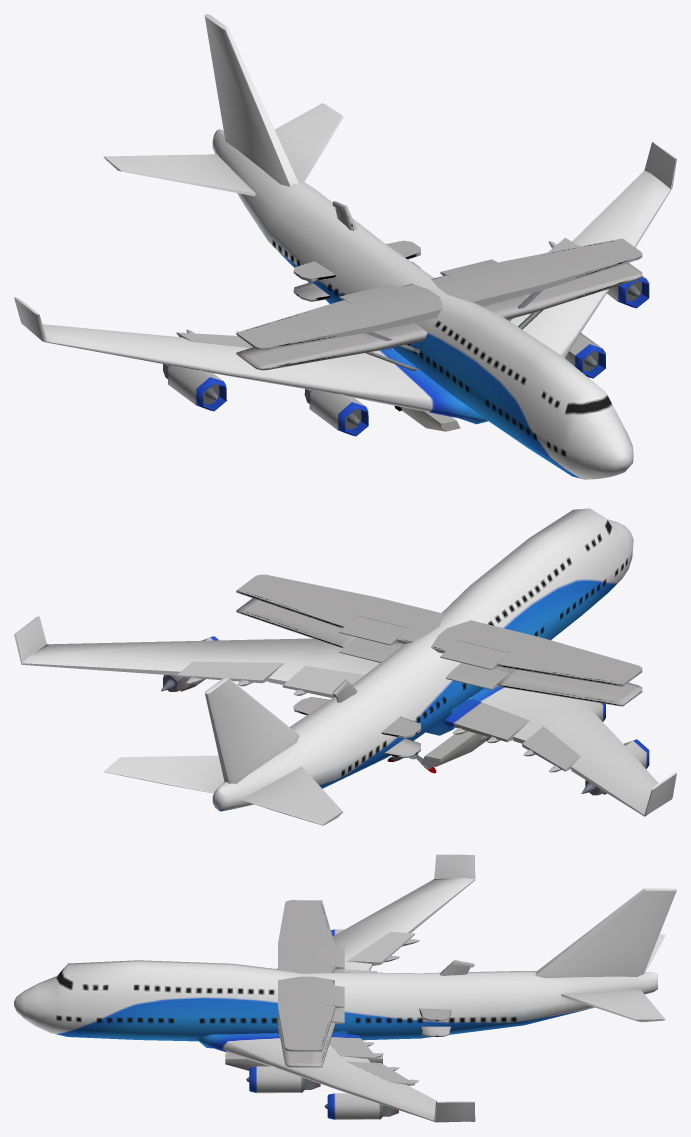
File: Planes.FBX
The picture shows the model from 3 angles, top to bottom: view 1: azimuth 30°, elevation 25°; view 2: azimuth 150°, elevation 25°; view 3: azimuth 270°, elevation 25°; orthographic projection. The views are drawn at different scales.
Visible parts, largest first — view 1: Airliner01, Cessna02, Cessna01; view 2: Airliner01, Cessna02, Cessna01; view 3: Airliner01, Cessna02, Cessna01.
Part boxes in pixels (box(x1,y1,x2,y2)): Airliner01: box(14, 14, 676, 479); Cessna02: box(236, 201, 642, 431); Cessna01: box(236, 261, 642, 411); Airliner01: box(14, 508, 676, 825); Cessna02: box(236, 574, 642, 766); Cessna01: box(236, 598, 642, 757); Airliner01: box(14, 854, 676, 1122); Cessna02: box(225, 900, 474, 1070); Cessna01: box(278, 968, 450, 1067).
Size of the model in its own units: 2504 by 844 by 2828.
